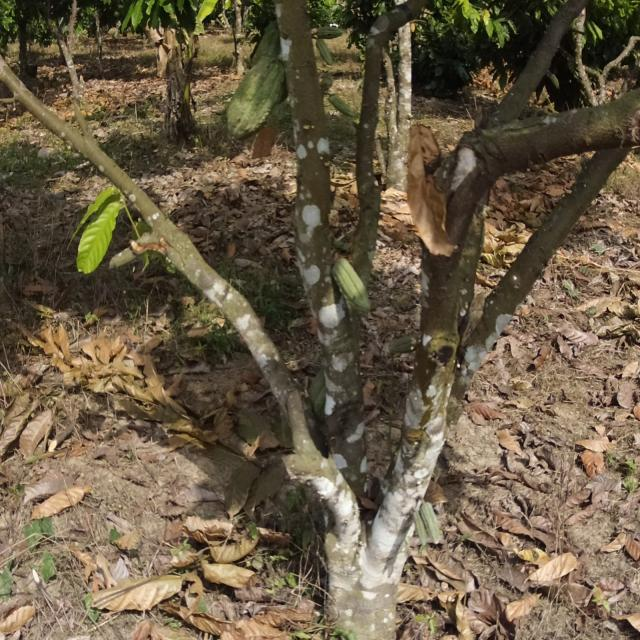Immature: (325, 254, 379, 326), (310, 32, 354, 118), (416, 498, 453, 566)
Mature_Unripe: (220, 23, 304, 147)
